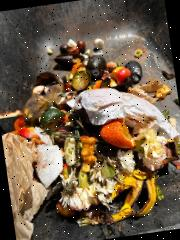organic: (34, 104, 78, 136), (102, 113, 142, 148), (128, 55, 156, 90), (87, 52, 112, 90), (55, 50, 80, 77)
